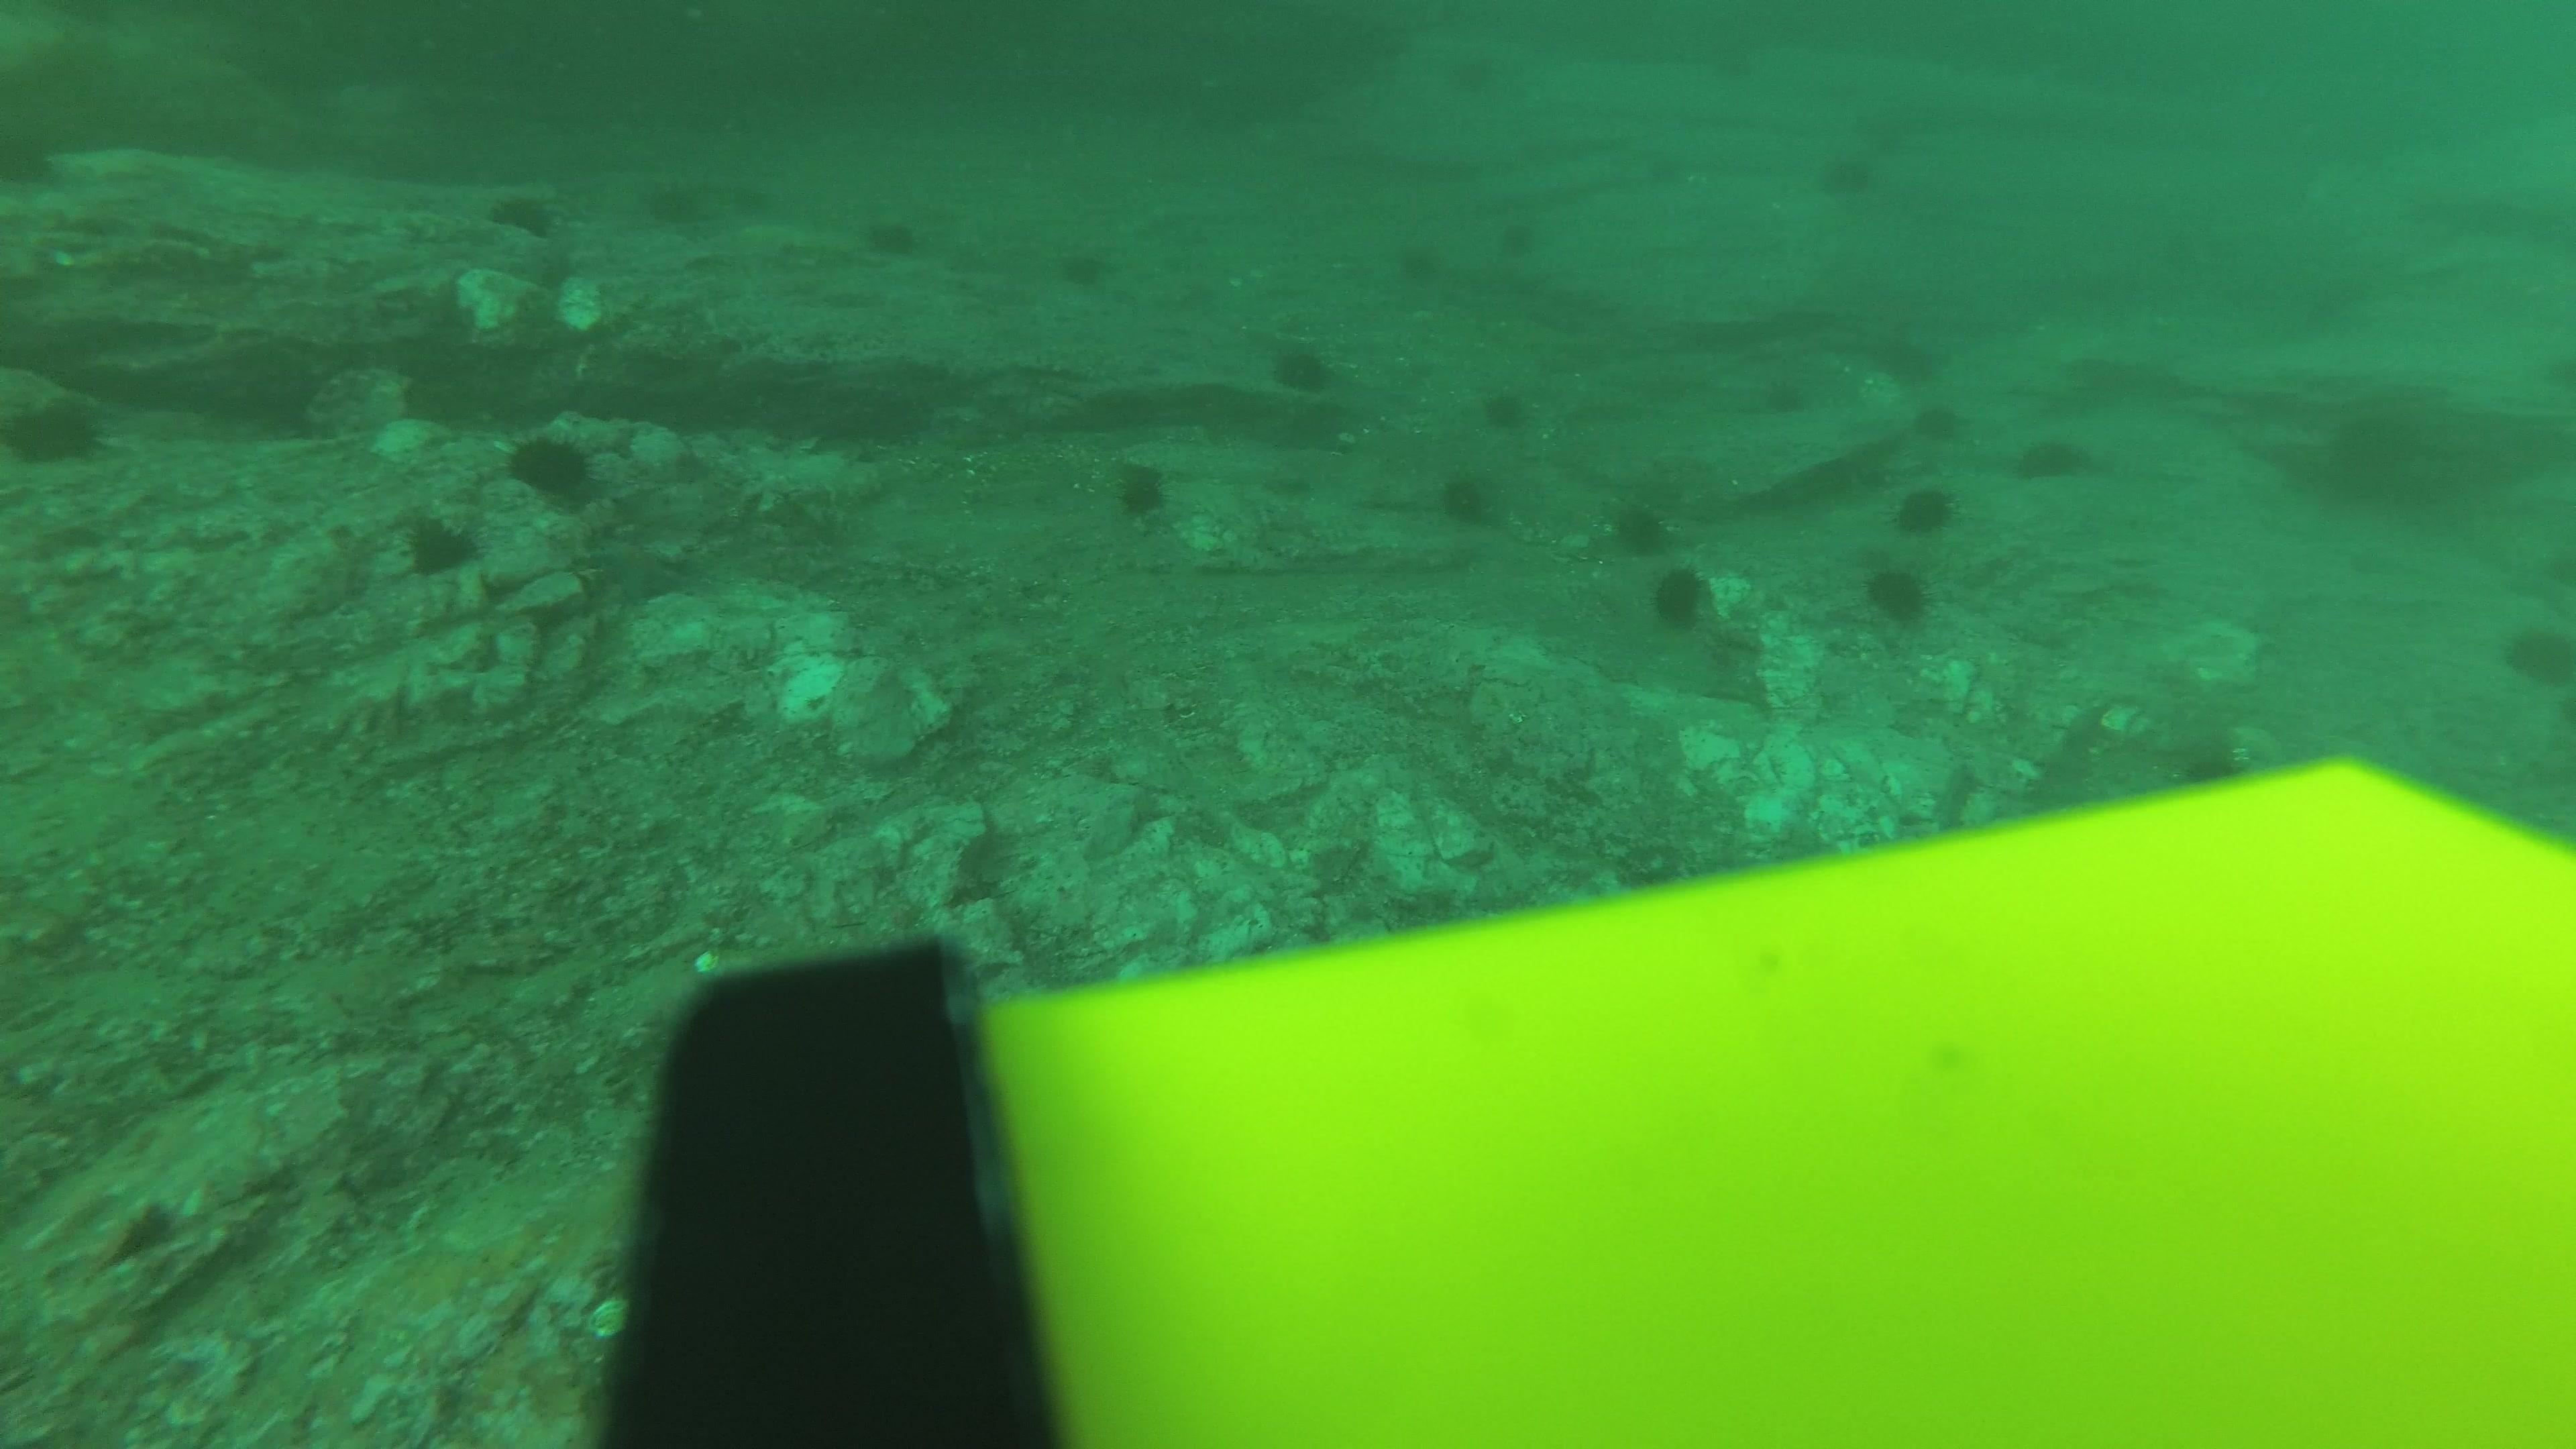echinus: (4, 380, 111, 471), (504, 425, 603, 506), (396, 506, 481, 582), (2498, 614, 2574, 690), (1108, 455, 1177, 525), (1645, 561, 1714, 632), (2013, 428, 2097, 487), (1863, 561, 1934, 628), (639, 172, 715, 234), (1265, 333, 1338, 396), (1606, 492, 1675, 557), (1874, 326, 1948, 386), (1812, 142, 1882, 203), (1750, 359, 1821, 421), (1486, 205, 1557, 267), (1389, 225, 1460, 287), (1633, 131, 1704, 193), (1430, 39, 1500, 101), (1686, 35, 1757, 97), (1435, 467, 1499, 531), (1891, 479, 1959, 540), (487, 186, 561, 239), (1053, 237, 1118, 295), (858, 207, 924, 262), (1477, 380, 1532, 433), (1911, 396, 1966, 448)
starfish: (580, 529, 690, 605)
